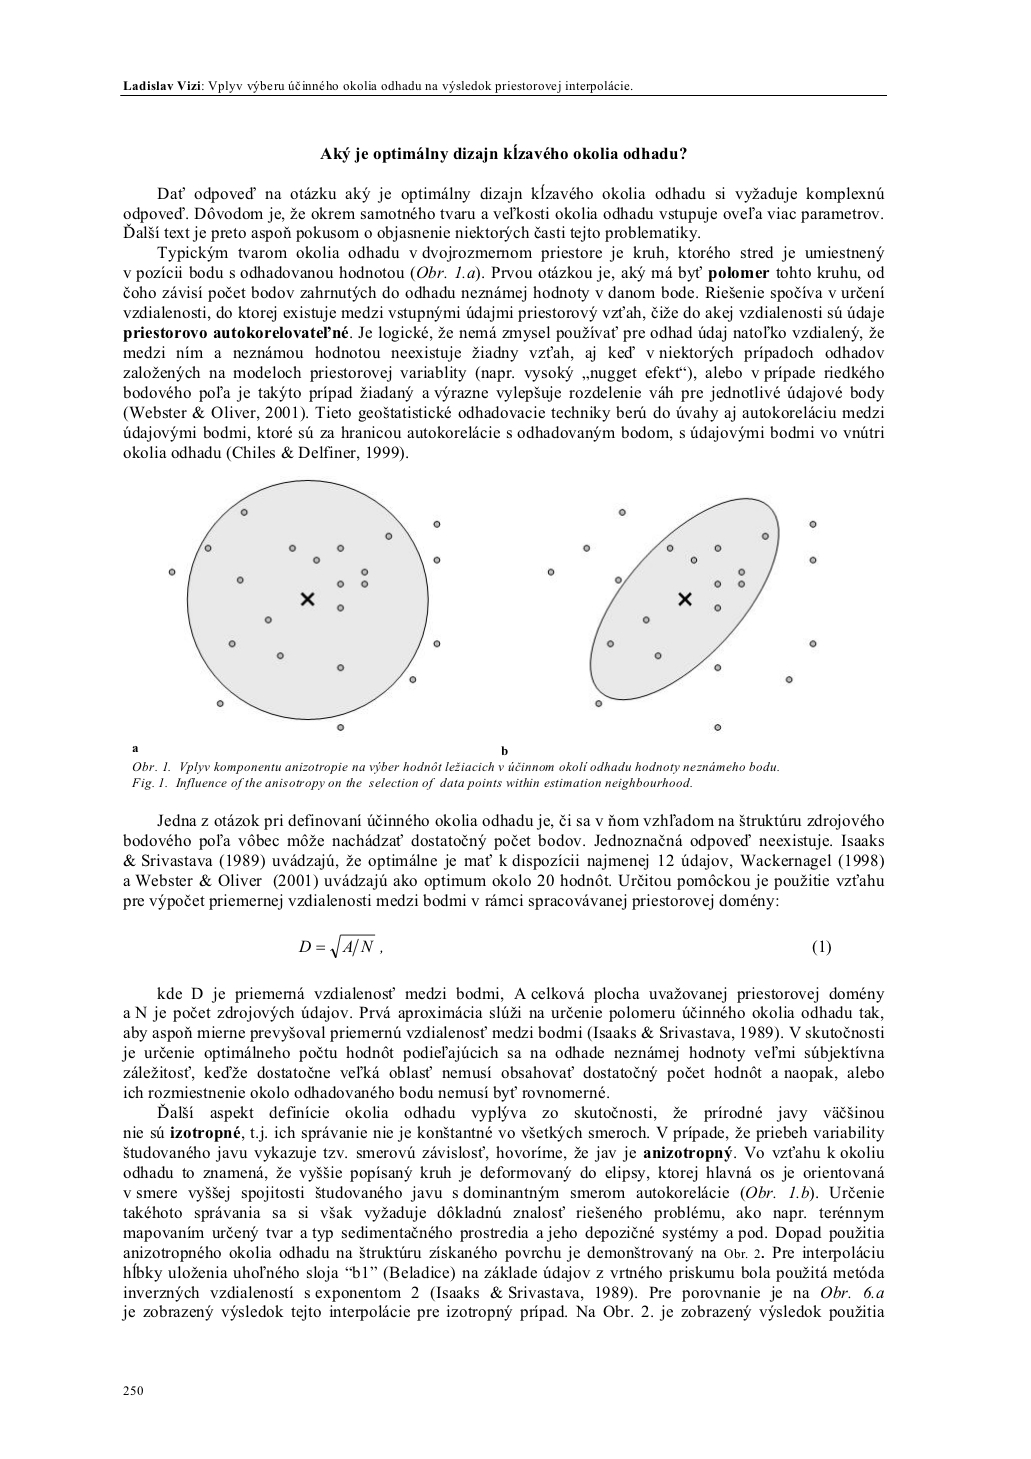figure: (168, 479, 440, 729), (547, 497, 816, 732)
formula: (298, 933, 830, 958)
